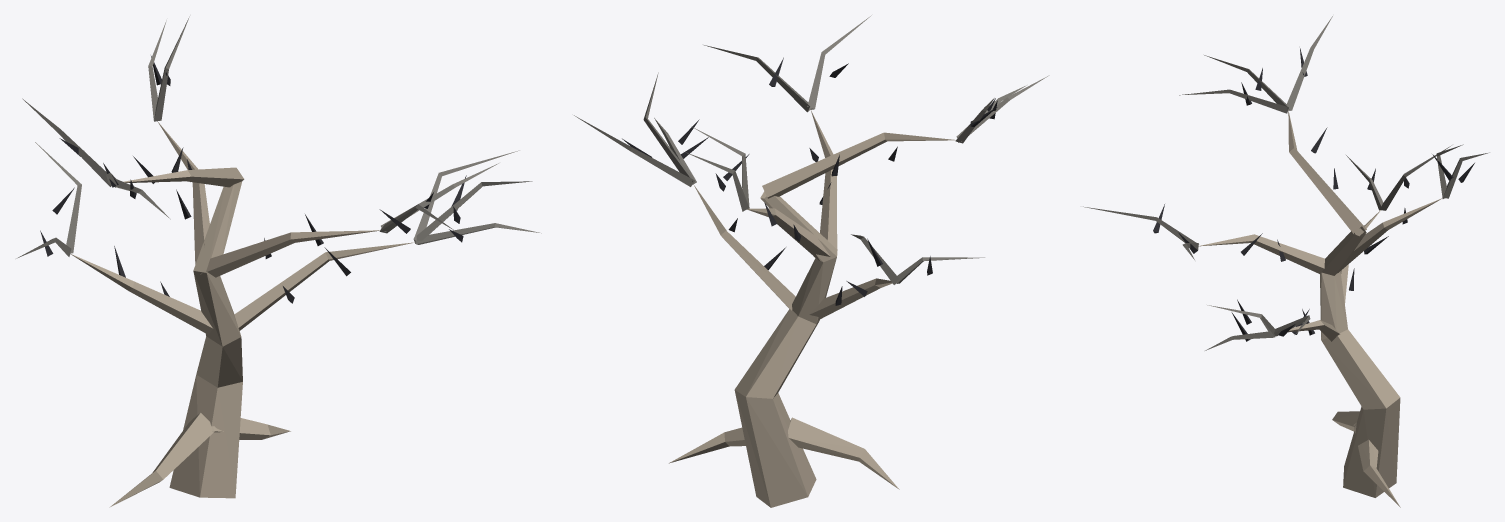
Rendered from Circle7Piece_Tree12.obj.
3 renders of one model, left to right at view 1: azimuth 30°, elevation 25°; view 2: azimuth 150°, elevation 25°; view 3: azimuth 270°, elevation 25°, orthographic. The views are drawn at different scales.
Parts seen in each view (by area): view 1: Circle7Piece_Tree12; view 2: Circle7Piece_Tree12; view 3: Circle7Piece_Tree12.
Part boxes in pixels (<box>): Circle7Piece_Tree12: <box>16,16,541,507</box>; Circle7Piece_Tree12: <box>574,15,1049,507</box>; Circle7Piece_Tree12: <box>1083,16,1489,507</box>.
Size of the model in its own units: 5.31 by 4.96 by 4.74.
Materials: 1 (1 with a texture image).
